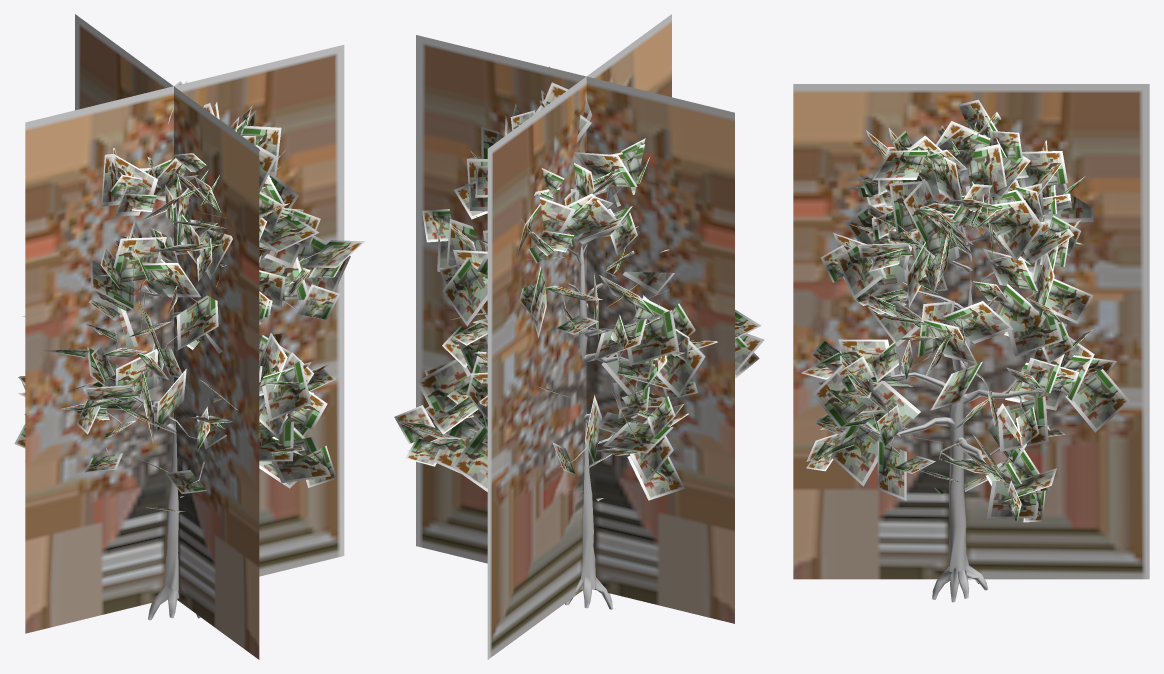
File: Tree-Maple2D.fbx
3 renders of one model, left to right at view 1: azimuth 30°, elevation 25°; view 2: azimuth 150°, elevation 25°; view 3: azimuth 270°, elevation 25°, orthographic. The views are drawn at different scales.
Parts seen in each view (by area): view 1: Billboard-MapleD, Tree-Maple2D_LOD0; view 2: Billboard-MapleD, Tree-Maple2D_LOD0; view 3: Billboard-MapleD, Tree-Maple2D_LOD0.
Boxes of the visible parts, x1=… form: Billboard-MapleD: x1=25, y1=14, x2=344, y2=659; Tree-Maple2D_LOD0: x1=14, y1=78, x2=364, y2=620; Billboard-MapleD: x1=416, y1=14, x2=734, y2=659; Tree-Maple2D_LOD0: x1=394, y1=66, x2=764, y2=609; Billboard-MapleD: x1=793, y1=84, x2=1149, y2=579; Tree-Maple2D_LOD0: x1=801, y1=99, x2=1130, y2=602.
Size of what is drawn, in the model's own units: 1804 by 2851 by 1804.
